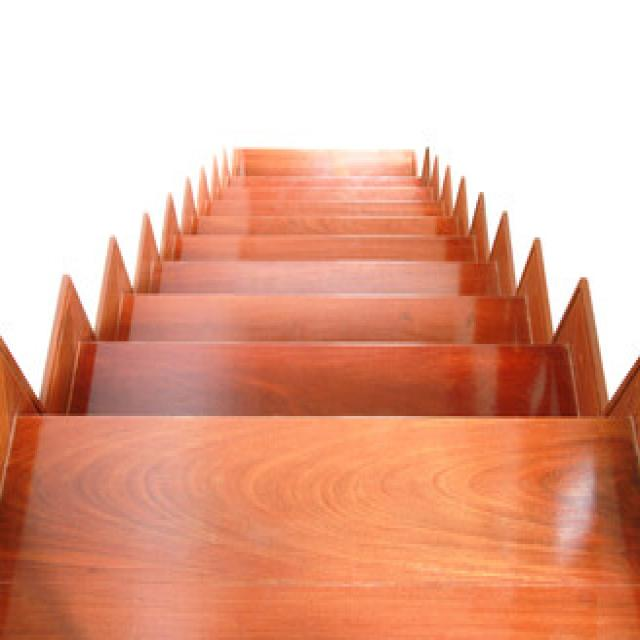stair: (0, 150, 639, 639)
